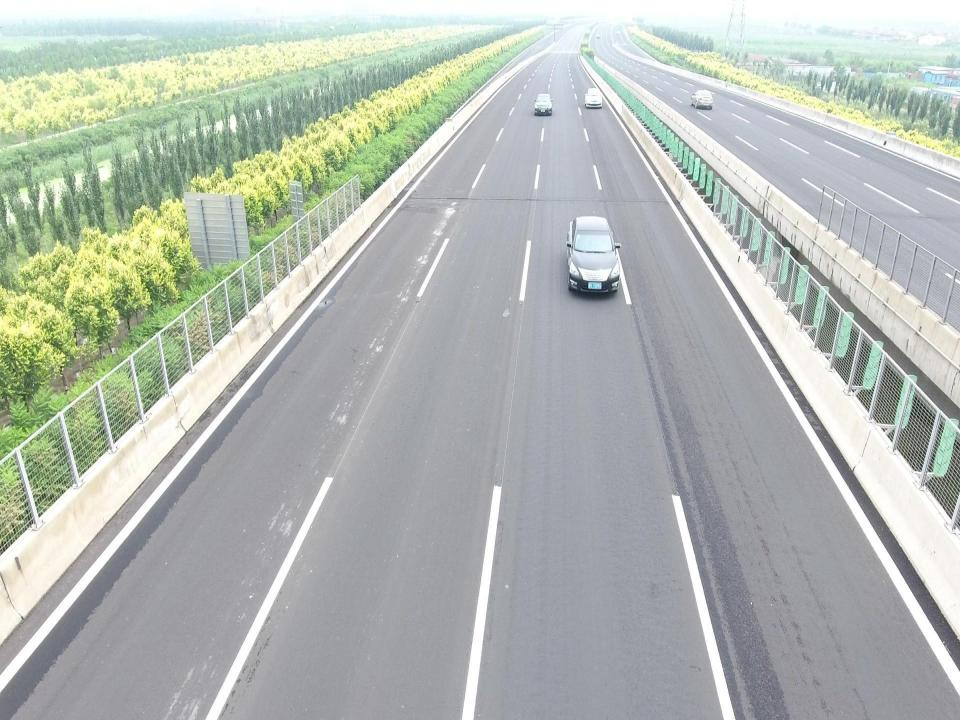car: (565, 216, 620, 296), (690, 90, 714, 110), (534, 94, 554, 116), (584, 87, 603, 109)
